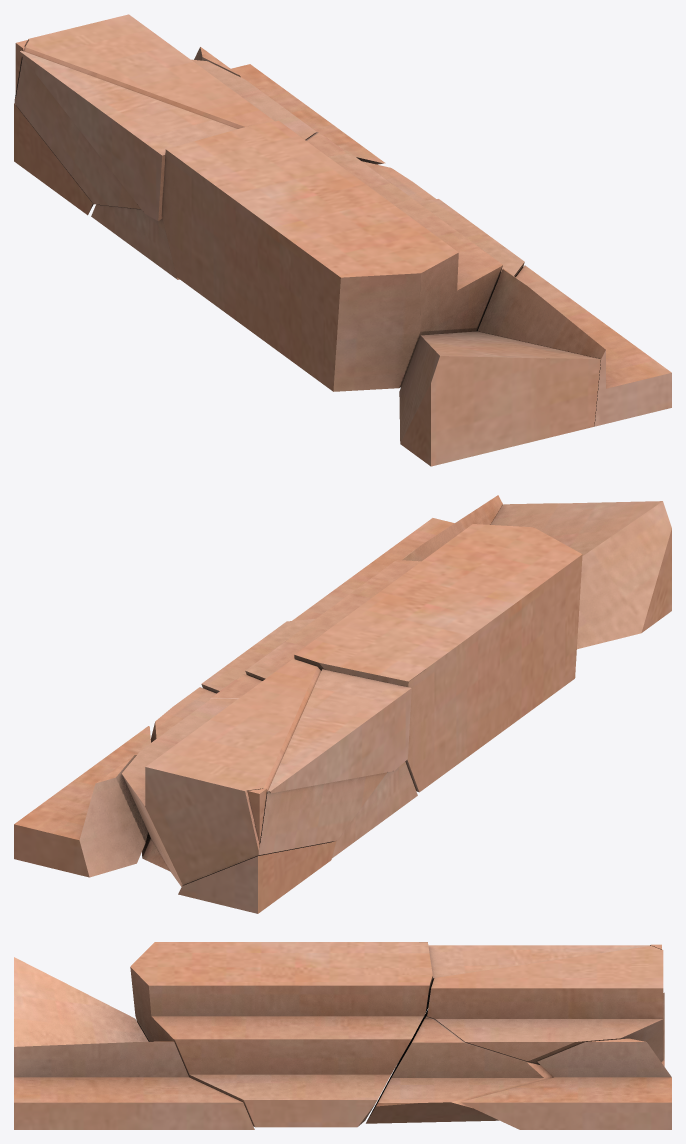
File: escaleras.fbx
The picture shows the model from 3 angles, top to bottom: view 1: azimuth 30°, elevation 25°; view 2: azimuth 150°, elevation 25°; view 3: azimuth 270°, elevation 25°; orthographic projection. The views are drawn at different scales.
Visible parts, largest first — view 1: Cube_cell.012; view 2: Cube_cell.012; view 3: Cube_cell.012.
Boxes of the visible parts, left/top/right/bottom form: Cube_cell.012: left=14, top=14, right=671, bottom=466; Cube_cell.012: left=14, top=495, right=671, bottom=913; Cube_cell.012: left=14, top=942, right=671, bottom=1129.
Bounding box in the file's own units: 204 × 97.57 × 606.
